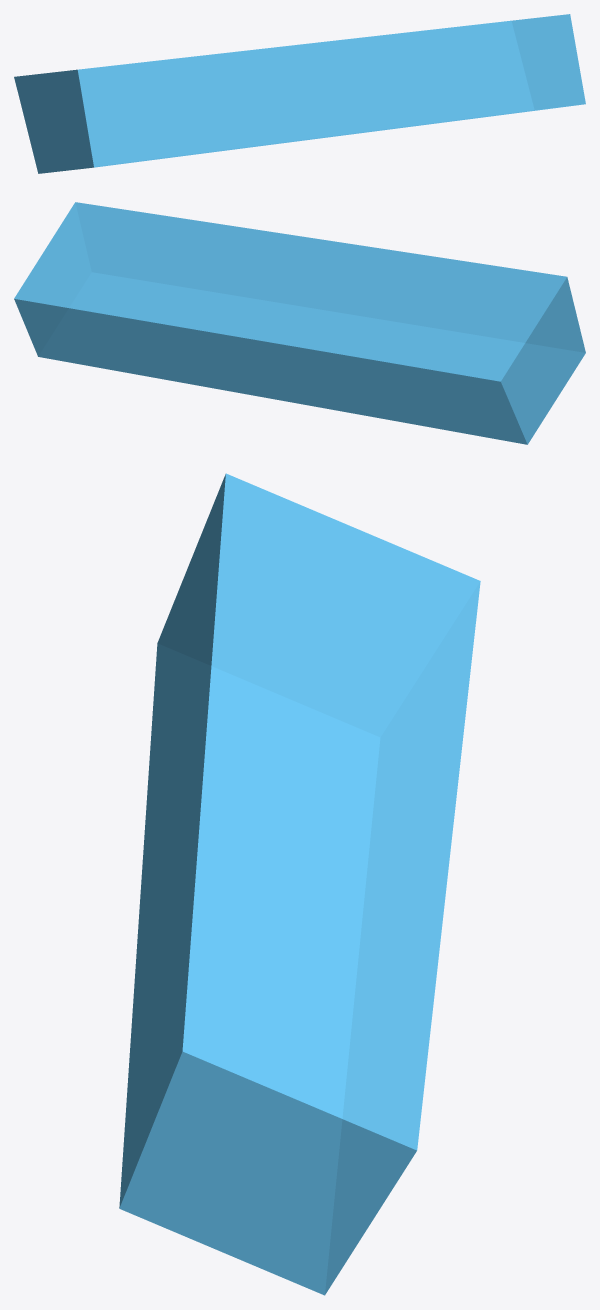
Rendered from Event_420094457_HErechit_63.fbx.
3 renders of one model, top to bottom at view 1: azimuth 30°, elevation 25°; view 2: azimuth 150°, elevation 25°; view 3: azimuth 270°, elevation 25°, orthographic. The views are drawn at different scales.
Parts seen in each view (by area): view 1: Model; view 2: Model; view 3: Model.
Boxes of the visible parts, x1=… form: Model: x1=14, y1=14, x2=585, y2=173; Model: x1=14, y1=202, x2=585, y2=444; Model: x1=119, y1=473, x2=480, y2=1295.
Bounding box in the file's own units: 0.9092 × 0.3171 × 0.2949.
